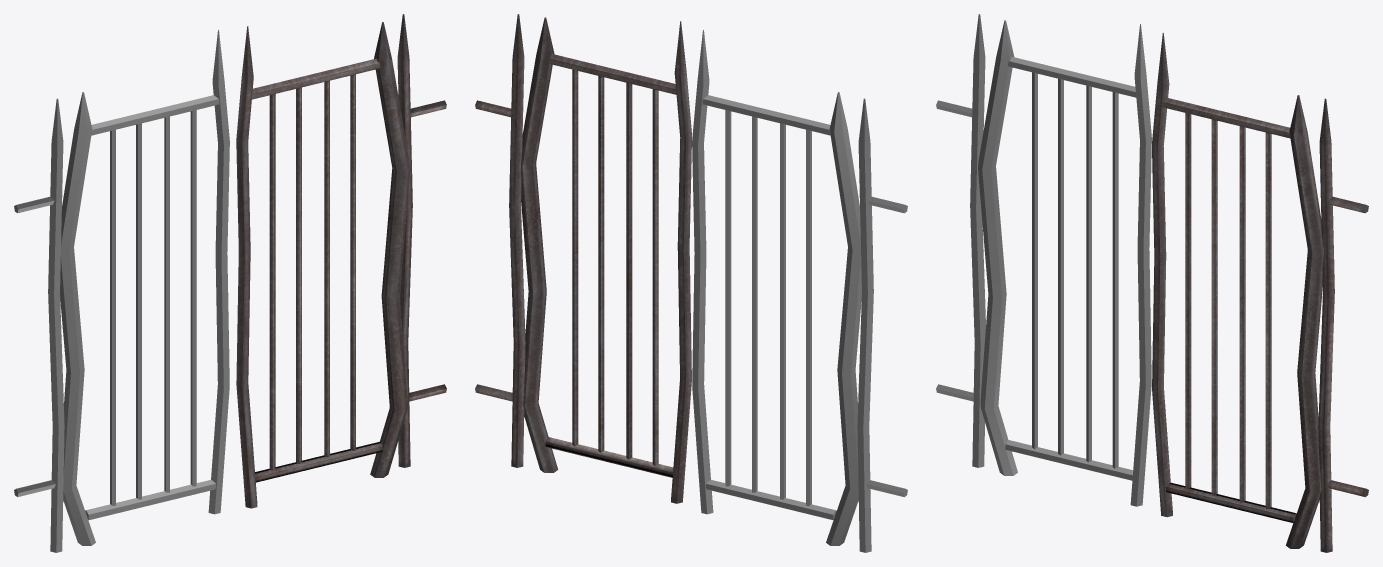
File: hek_fix.FBX
3 renders of one model, left to right at view 1: azimuth 30°, elevation 25°; view 2: azimuth 150°, elevation 25°; view 3: azimuth 330°, elevation 25°, orthographic.
Visible parts, largest first — view 1: polySurface29, pasted__polySurface29; view 2: pasted__polySurface29, polySurface29; view 3: pasted__polySurface29, polySurface29.
Part boxes in pixels (left/top/right/bottom): polySurface29: left=14, top=30, right=229, bottom=552; pasted__polySurface29: left=236, top=14, right=446, bottom=508; pasted__polySurface29: left=475, top=14, right=691, bottom=503; polySurface29: left=692, top=30, right=907, bottom=552; pasted__polySurface29: left=1152, top=32, right=1368, bottom=552; polySurface29: left=936, top=14, right=1151, bottom=506.
Size of the model in its own units: 63.14 by 67.65 by 3.15.
